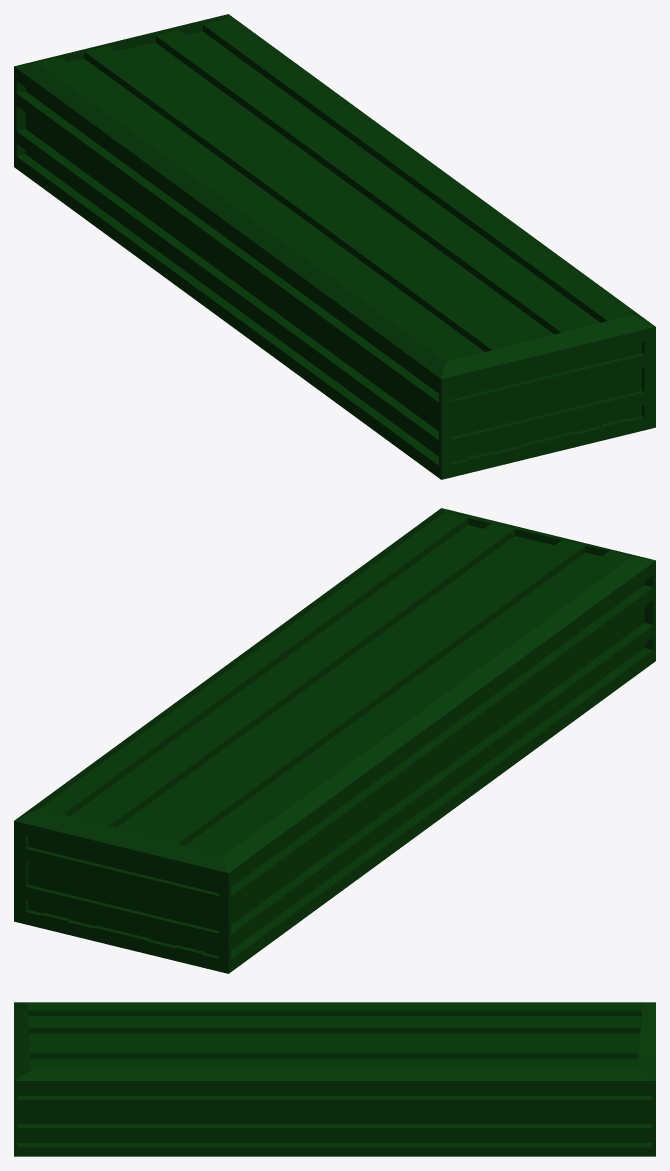
The model's file is militaryBox.fbx.
3 views of the same model, one above another, from view 1: azimuth 30°, elevation 25°; view 2: azimuth 150°, elevation 25°; view 3: azimuth 270°, elevation 25° (orthographic). The views are drawn at different scales.
Parts seen in each view (by area): view 1: Куб; view 2: Куб; view 3: Куб.
Part boxes in pixels (x1,y1,x2,y2): Куб: [14, 14, 655, 479]; Куб: [14, 508, 655, 973]; Куб: [14, 1002, 655, 1156].
Size of the model in its own units: 200 by 96 by 690.
